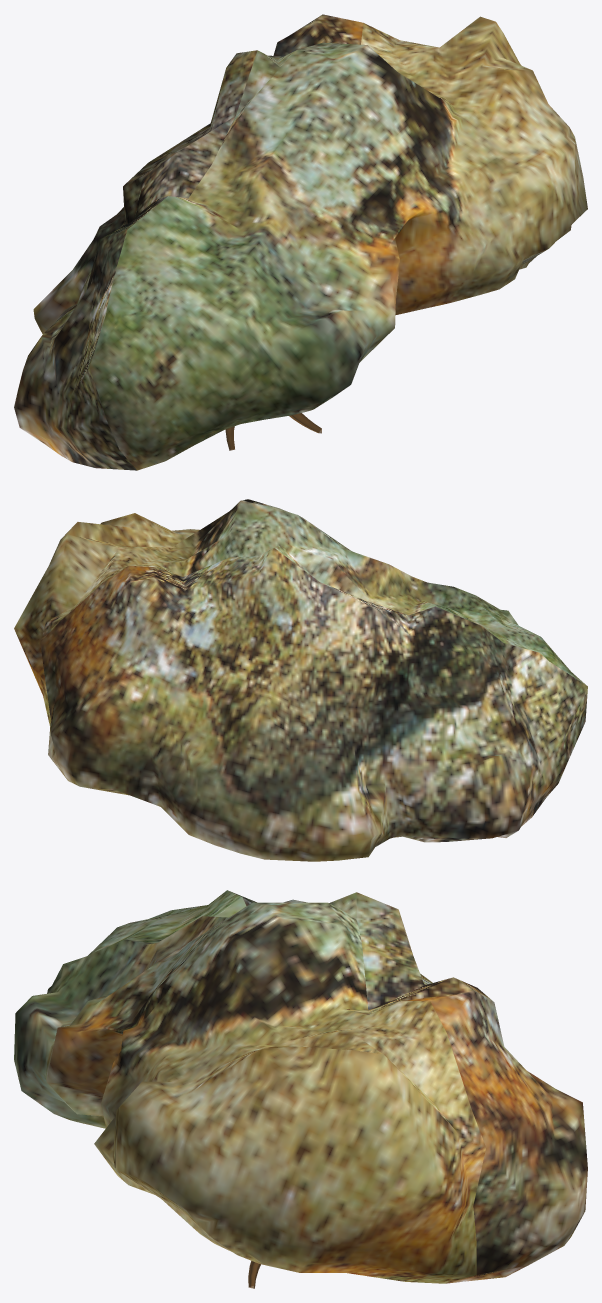
Rendered from decorate.FBX.
3 renders of one model, top to bottom at view 1: azimuth 30°, elevation 25°; view 2: azimuth 150°, elevation 25°; view 3: azimuth 270°, elevation 25°, orthographic. The views are drawn at different scales.
Visible parts, largest first — view 1: decorate_001; view 2: decorate_001; view 3: decorate_001.
Boxes of the visible parts, x1,y1,x2,y2 form: decorate_001: (14, 14, 587, 470); decorate_001: (14, 499, 587, 861); decorate_001: (14, 890, 587, 1283).
Size of the model in its own units: 239 by 155 by 196.
